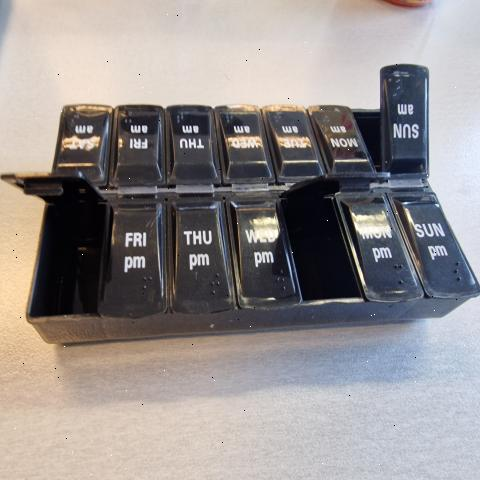Open: (2, 173, 109, 318), (286, 174, 388, 301), (354, 70, 386, 174)
